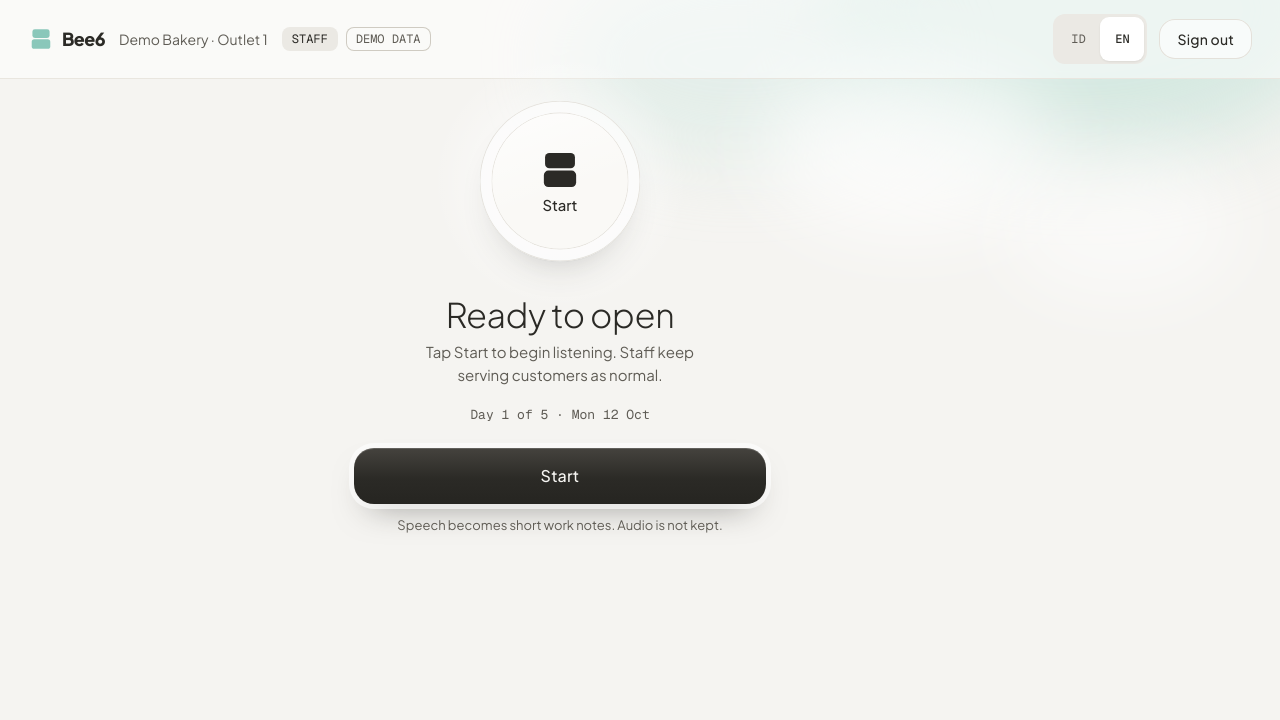
Scenario: capture page: the End and Cancel panels in the sandbox (R-18) › EN sandbox, End locked: the exact closing-time label, really disabled, in English
Click the button "Start" at (560,476), box x1=354 y1=448 x2=766 y2=504
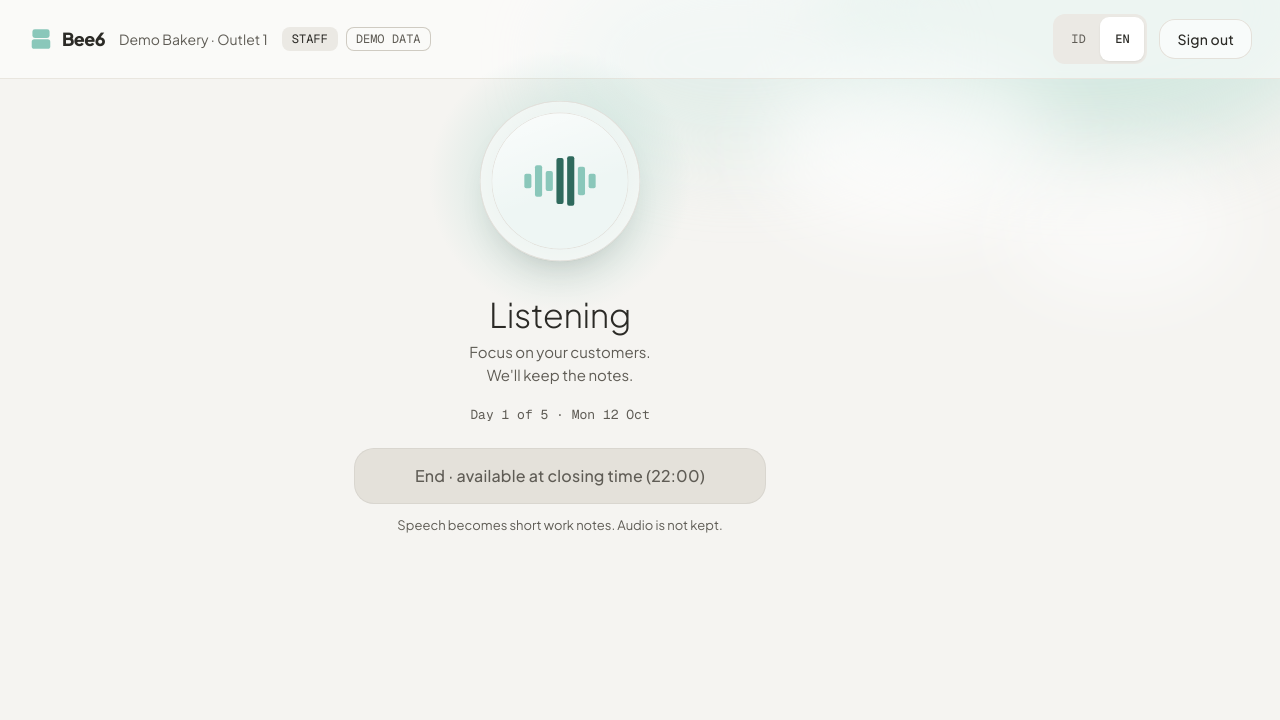
expect the text "Day 1 of 5 · Mon 12 Oct" is shown: met, box x1=470 y1=406 x2=650 y2=423
expect the text "Start" is gone: met
expect the button "End · available at closing time (22:00)" is disabled: met, box x1=354 y1=448 x2=766 y2=504
